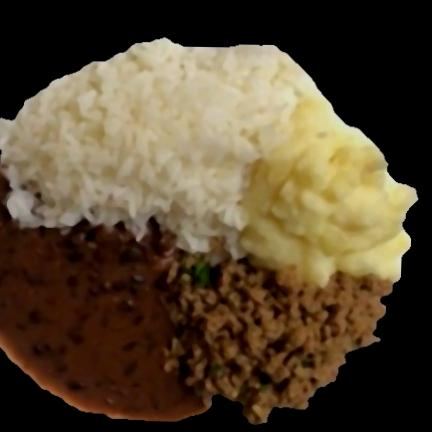beans: (0, 176, 207, 421)
meat: (164, 254, 391, 423)
potato: (241, 103, 416, 283)
rice: (0, 37, 294, 254)
